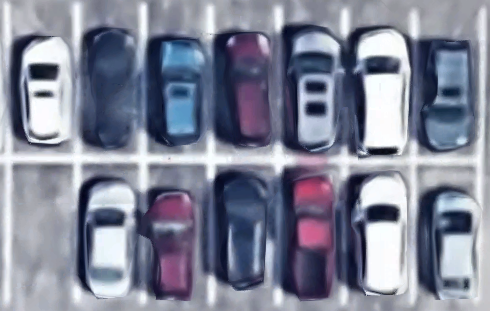Occupied: (5, 2, 77, 158), (143, 3, 211, 158), (211, 3, 279, 158), (346, 4, 414, 158), (414, 4, 481, 160), (77, 2, 143, 158), (279, 3, 345, 158), (142, 158, 211, 303), (345, 159, 414, 303), (278, 158, 345, 304), (211, 159, 278, 303), (77, 158, 143, 303), (414, 160, 480, 303)
Vacant: (5, 158, 77, 302)
